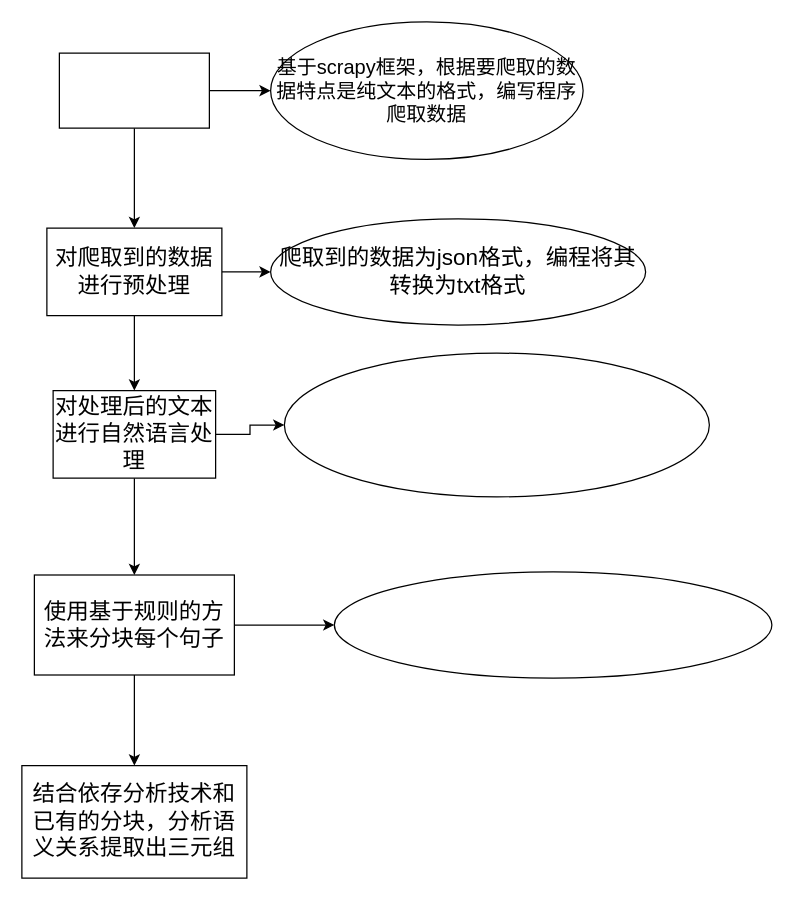
This 794x900 diagram has some shape labels left out. The shapes that lost their labels are listed below. From the top down, each one's centre as x and y in pixels, then its label:
At pixel 133 90: "爬取数据".
At pixel 496 424: "使用nlkt将文本分句后，将列表转换为字符串使用punctuation库删除句子里含有的标点再还原列表进行分词标注词性".
At pixel 552 624: "利用nltk的正则分块器将句子里的名词短语和动词短语进行分块".
